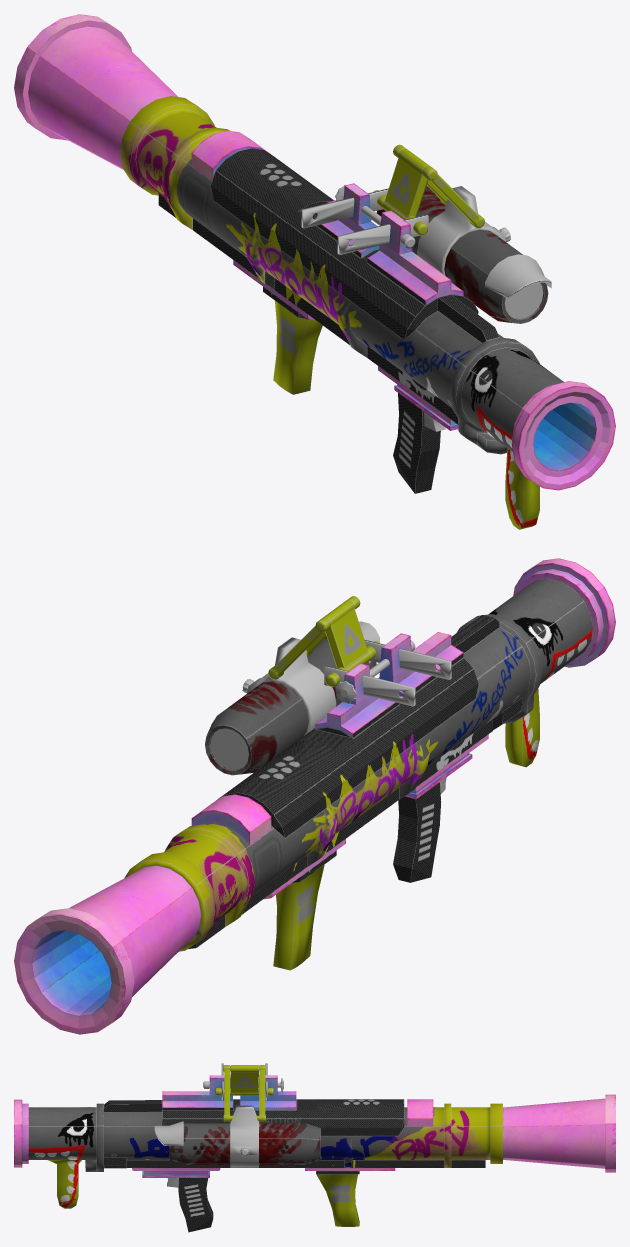
Rendered from Bazooka.fbx.
3 views of the same model, one above another, from view 1: azimuth 30°, elevation 25°; view 2: azimuth 150°, elevation 25°; view 3: azimuth 270°, elevation 25° (orthographic). The views are drawn at different scales.
Visible parts, largest first — view 1: Bazooka2; view 2: Bazooka2; view 3: Bazooka2.
Part boxes in pixels (bbox=[...]): Bazooka2: bbox=[14, 14, 615, 529]; Bazooka2: bbox=[14, 558, 615, 1034]; Bazooka2: bbox=[14, 1063, 615, 1232].
Size of the model in its own units: 0.6142 by 0.9077 by 2.81.
